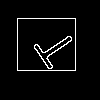T: (25, 25, 80, 76)
